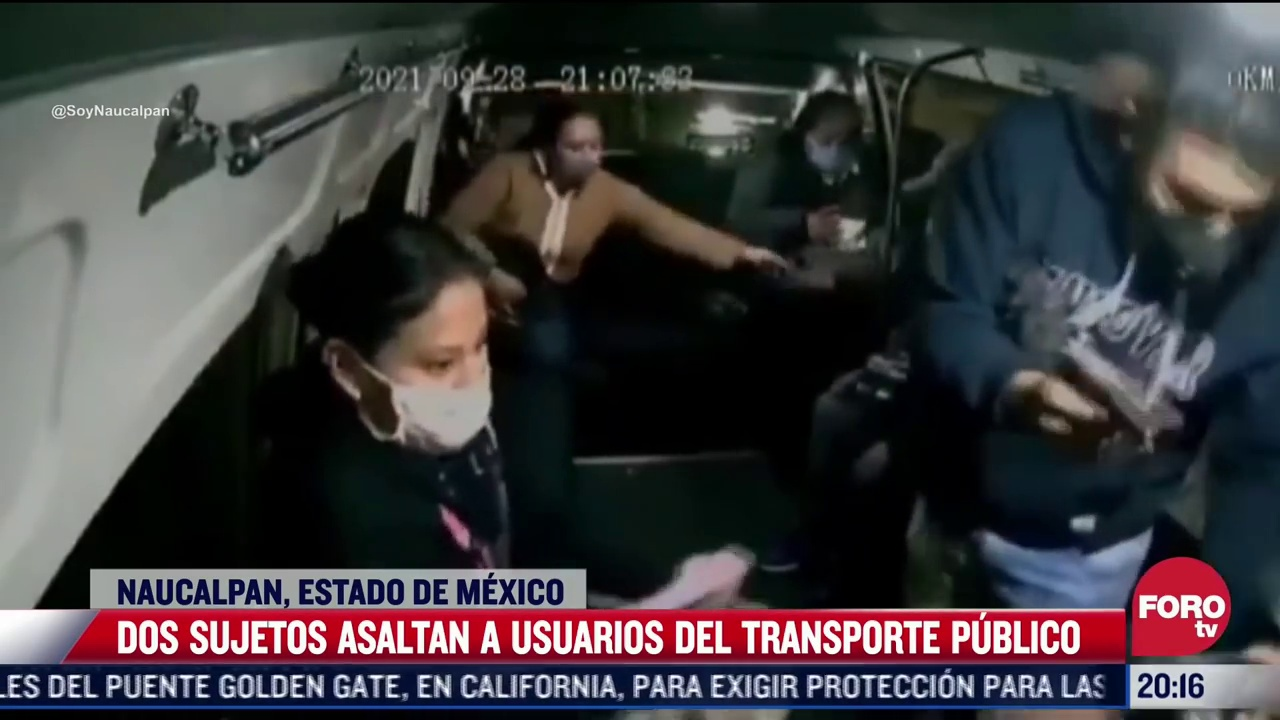pistol: (1053, 333, 1187, 446)
